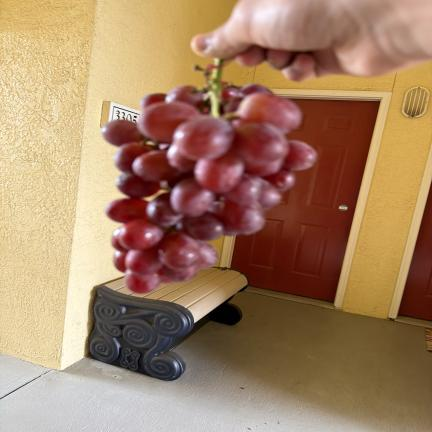grape_cluster: (101, 59, 317, 293)
